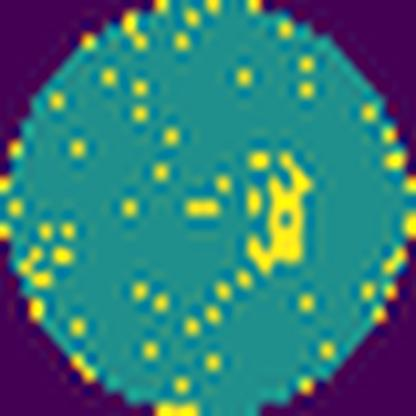Edge-Loc: (244, 150, 314, 274)
